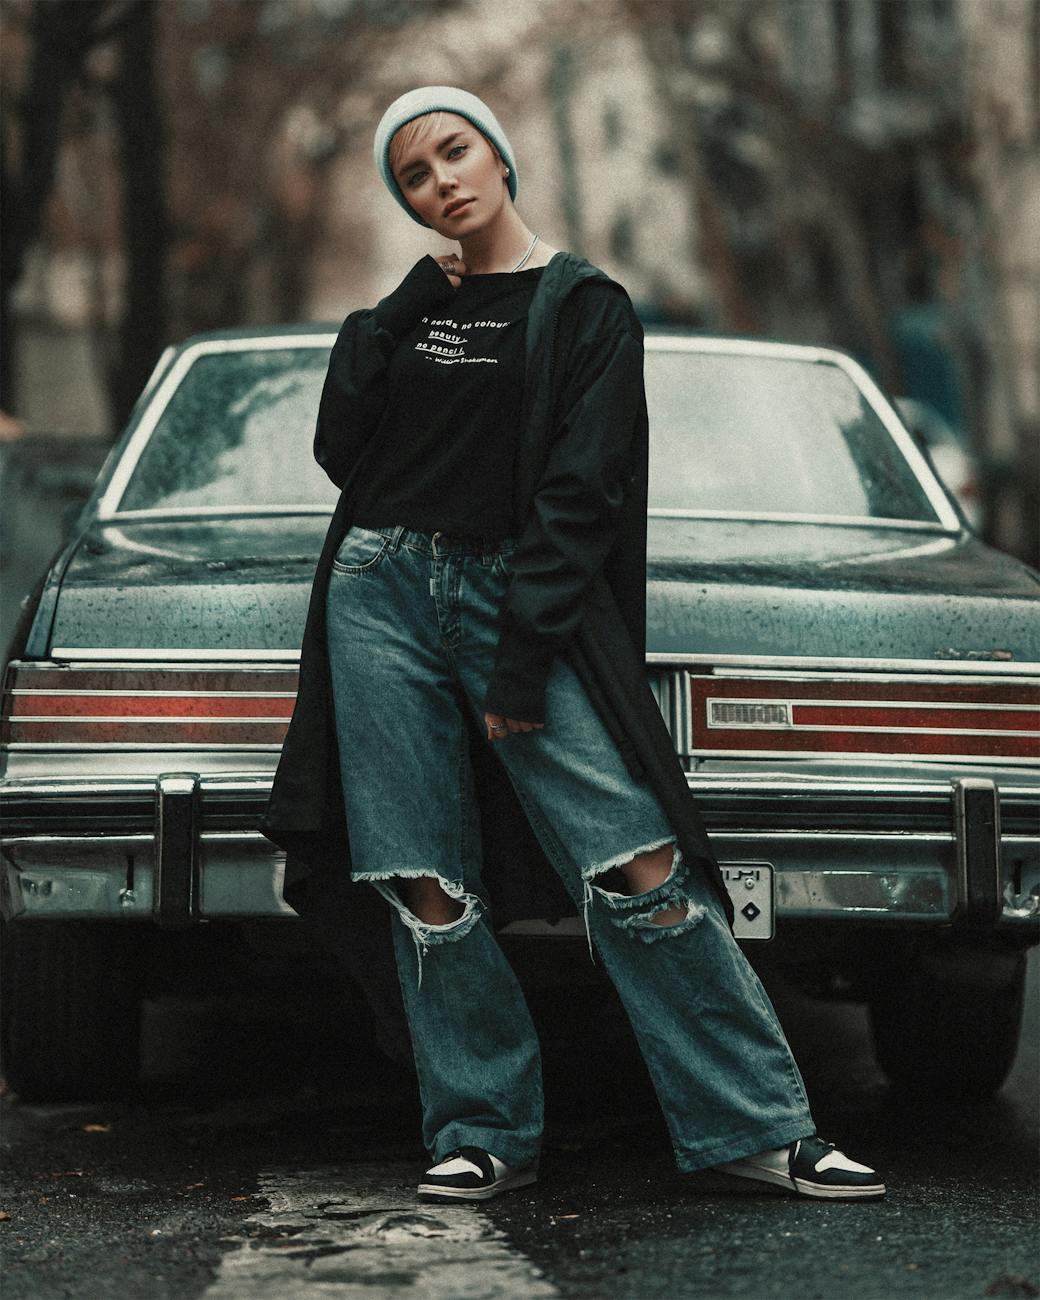ripped_jeans: (317, 520, 832, 1131)
